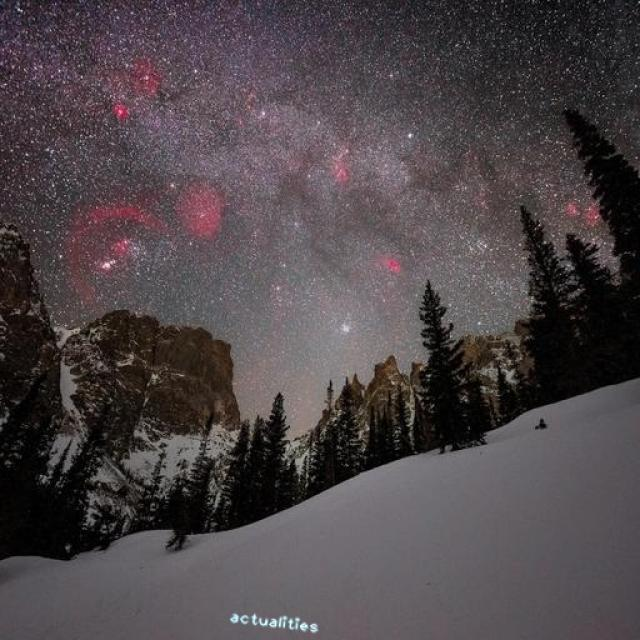watermark: (224, 609, 329, 634)
